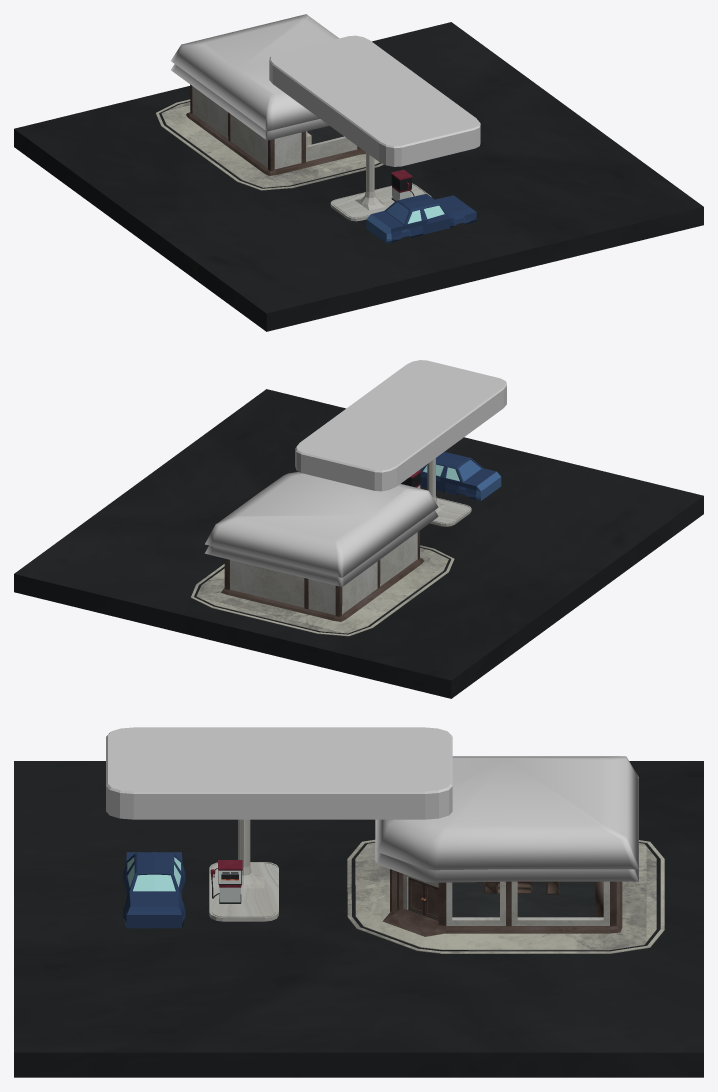
The model's file is MelOMart_roughTexture2.fbx.
3 renders of one model, top to bottom at view 1: azimuth 30°, elevation 25°; view 2: azimuth 150°, elevation 25°; view 3: azimuth 270°, elevation 25°, orthographic. The views are drawn at different scales.
Parts seen in each view (by area): view 1: melOmart-asphalt-platform, melOmart-gas-awning, melOmart-building-ext.001, melOmart-building-roof-top.002, car_body_no_driver_door.001, melOmart-awning-post.001, melOmart-building-roof-top.001, gas_pump; view 2: melOmart-asphalt-platform, melOmart-gas-awning, melOmart-building-roof-top.002, melOmart-building-ext.001, melOmart-building-roof-top.001, car_body_no_driver_door.001, melOmart-awning-post.001; view 3: melOmart-asphalt-platform, melOmart-gas-awning, melOmart-building-roof-top.002, melOmart-building-ext.001, car_body_no_driver_door.001, melOmart-awning-post.001, melOmart-building-roof-top.001, gas_pump.
Boxes of the visible parts, left/top/right/bottom form: melOmart-asphalt-platform: left=14, top=22, right=703, bottom=331; melOmart-gas-awning: left=269, top=35, right=480, bottom=166; melOmart-building-ext.001: left=156, top=84, right=383, bottom=190; melOmart-building-roof-top.002: left=171, top=14, right=338, bottom=131; car_body_no_driver_door.001: left=366, top=194, right=476, bottom=243; melOmart-awning-post.001: left=330, top=152, right=431, bottom=221; melOmart-building-roof-top.001: left=171, top=64, right=329, bottom=140; gas_pump: left=390, top=169, right=412, bottom=201; melOmart-asphalt-platform: left=14, top=389, right=703, bottom=698; melOmart-gas-awning: left=295, top=360, right=506, bottom=491; melOmart-building-roof-top.002: left=205, top=472, right=438, bottom=577; melOmart-building-ext.001: left=190, top=530, right=454, bottom=636; melOmart-building-roof-top.001: left=204, top=510, right=438, bottom=586; car_body_no_driver_door.001: left=436, top=452, right=501, bottom=500; melOmart-awning-post.001: left=427, top=458, right=471, bottom=526; melOmart-asphalt-platform: left=14, top=761, right=703, bottom=1077; melOmart-gas-awning: left=106, top=727, right=452, bottom=819; melOmart-building-roof-top.002: left=375, top=756, right=638, bottom=870; melOmart-building-ext.001: left=347, top=839, right=664, bottom=953; car_body_no_driver_door.001: left=123, top=852, right=185, bottom=928; melOmart-awning-post.001: left=209, top=819, right=278, bottom=921; melOmart-building-roof-top.001: left=375, top=849, right=638, bottom=882; gas_pump: left=218, top=860, right=242, bottom=903.
Bounding box in the file's own units: 2500 × 654 × 2500.
